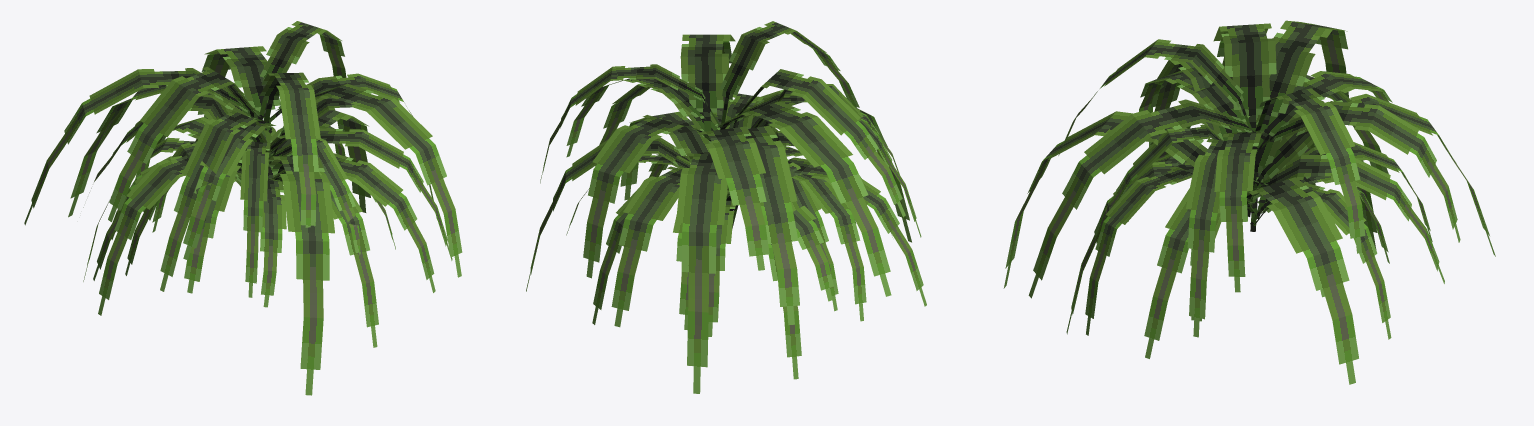
Rendered from spider-plant-bush-large.glb.
3 renders of one model, left to right at view 1: azimuth 30°, elevation 25°; view 2: azimuth 150°, elevation 25°; view 3: azimuth 270°, elevation 25°, orthographic. The views are drawn at different scales.
Visible parts, largest first — view 1: Fern Large.052; view 2: Fern Large.052; view 3: Fern Large.052.
Part boxes in pixels (<box>): Fern Large.052: <box>24,21,462,395</box>; Fern Large.052: <box>526,21,926,393</box>; Fern Large.052: <box>1003,20,1495,384</box>.
Bounding box in the file's own units: 1.51 × 0.9647 × 1.63.
1 material, 1 textured.
